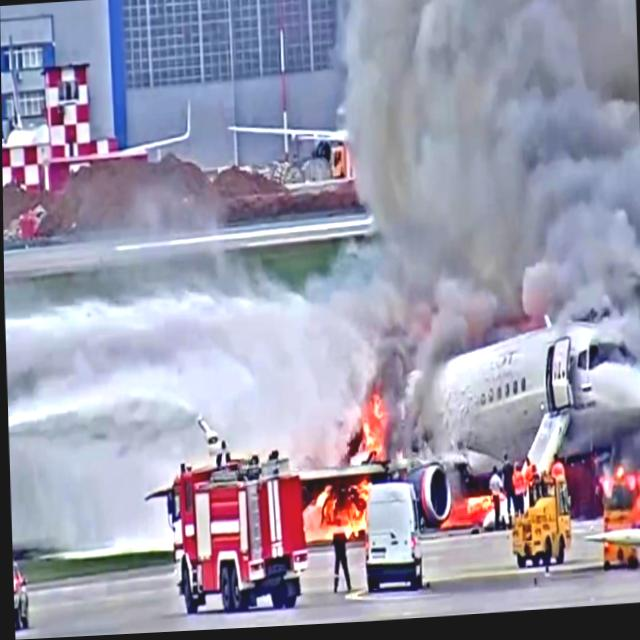smoke: (328, 0, 585, 301), (563, 136, 640, 374)
